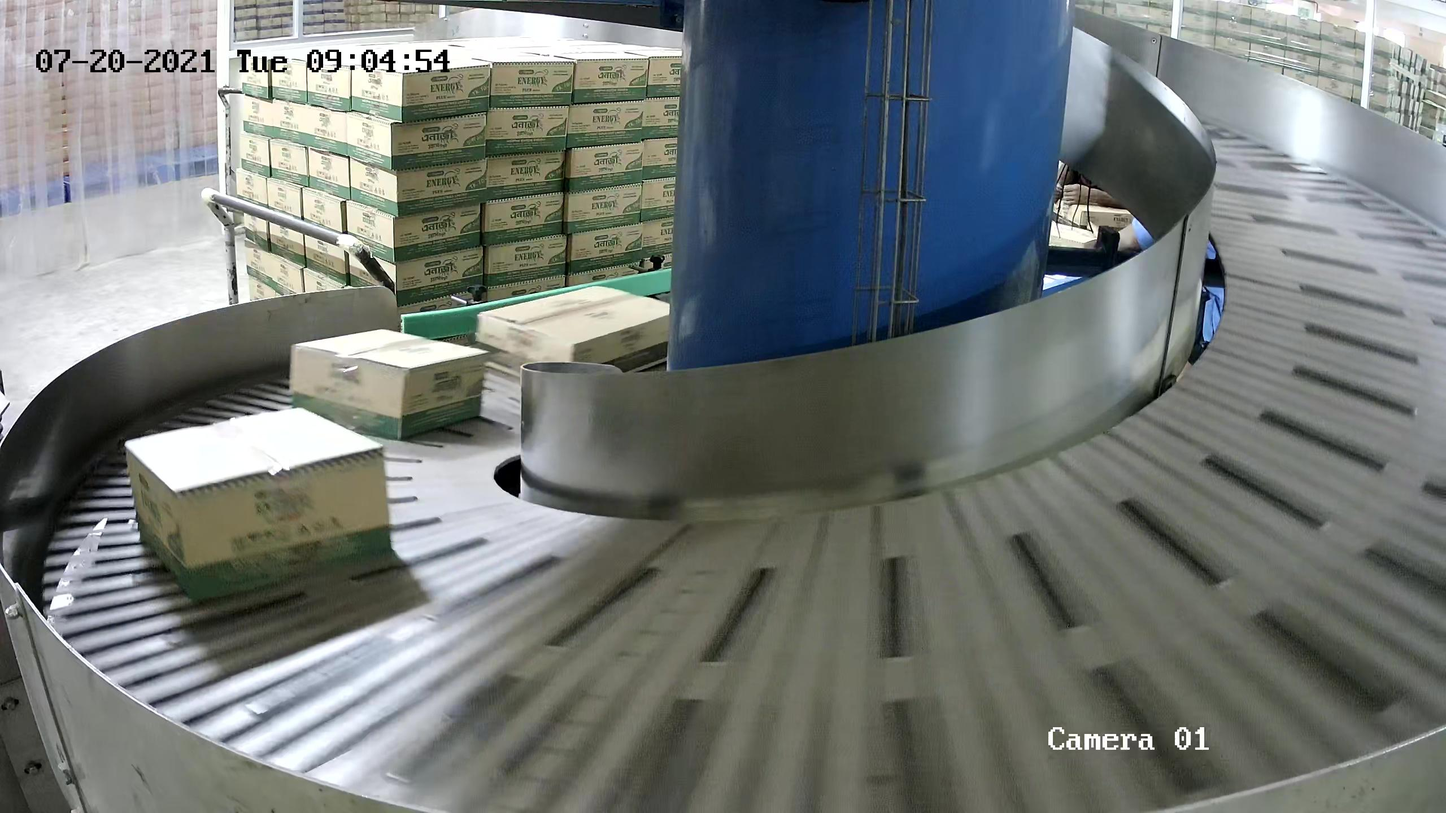Box: (124, 406, 393, 608), (477, 284, 691, 393), (289, 327, 489, 440)
